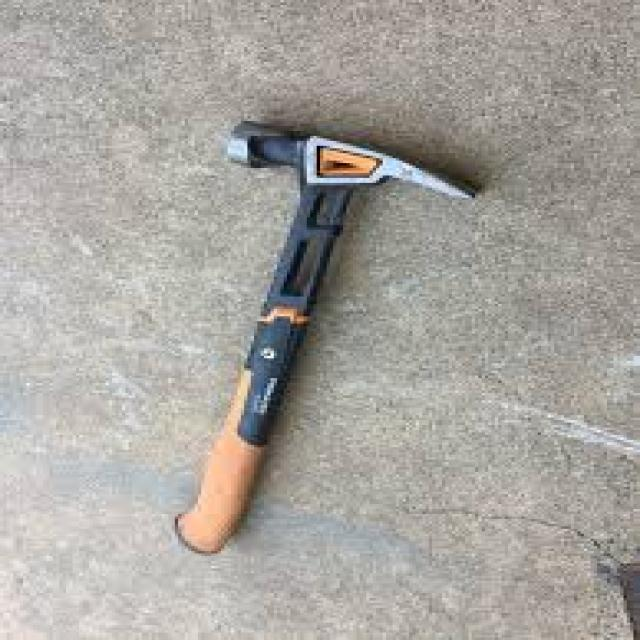hammer: (99, 73, 519, 568)
